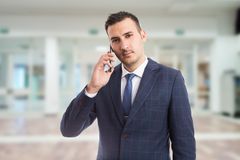phone: (108, 42, 113, 74)
talk: (90, 28, 140, 93)
